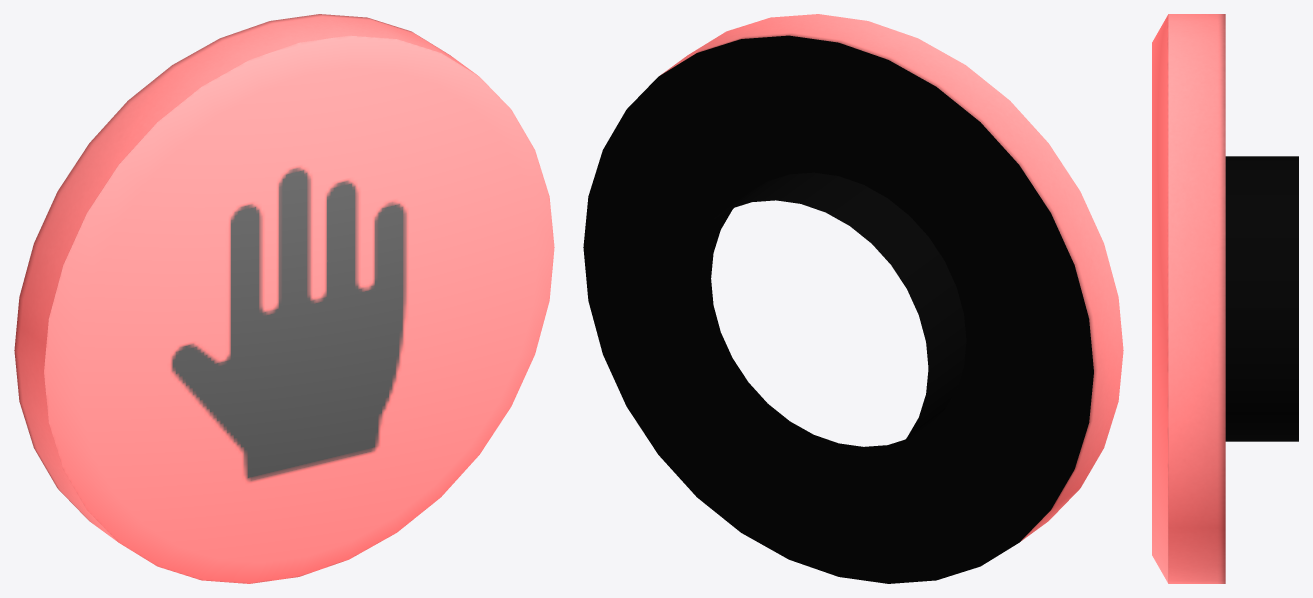
Rendered from pushbutton_top.gltf.
The picture shows the model from 3 angles, left to right: view 1: azimuth 30°, elevation 25°; view 2: azimuth 150°, elevation 25°; view 3: azimuth 270°, elevation 25°; orthographic projection. The views are drawn at different scales.
Visible parts, largest first — view 1: pushbutton_top; view 2: pushbutton_top; view 3: pushbutton_top.
Part boxes in pixels (x1,y1,x2,y2): pushbutton_top: [14, 14, 554, 583]; pushbutton_top: [583, 14, 1123, 583]; pushbutton_top: [1152, 14, 1298, 583].
Bounding box in the file's own units: 0.224 × 0.224 × 0.0576.
Materials: 1 (1 with a texture image).
